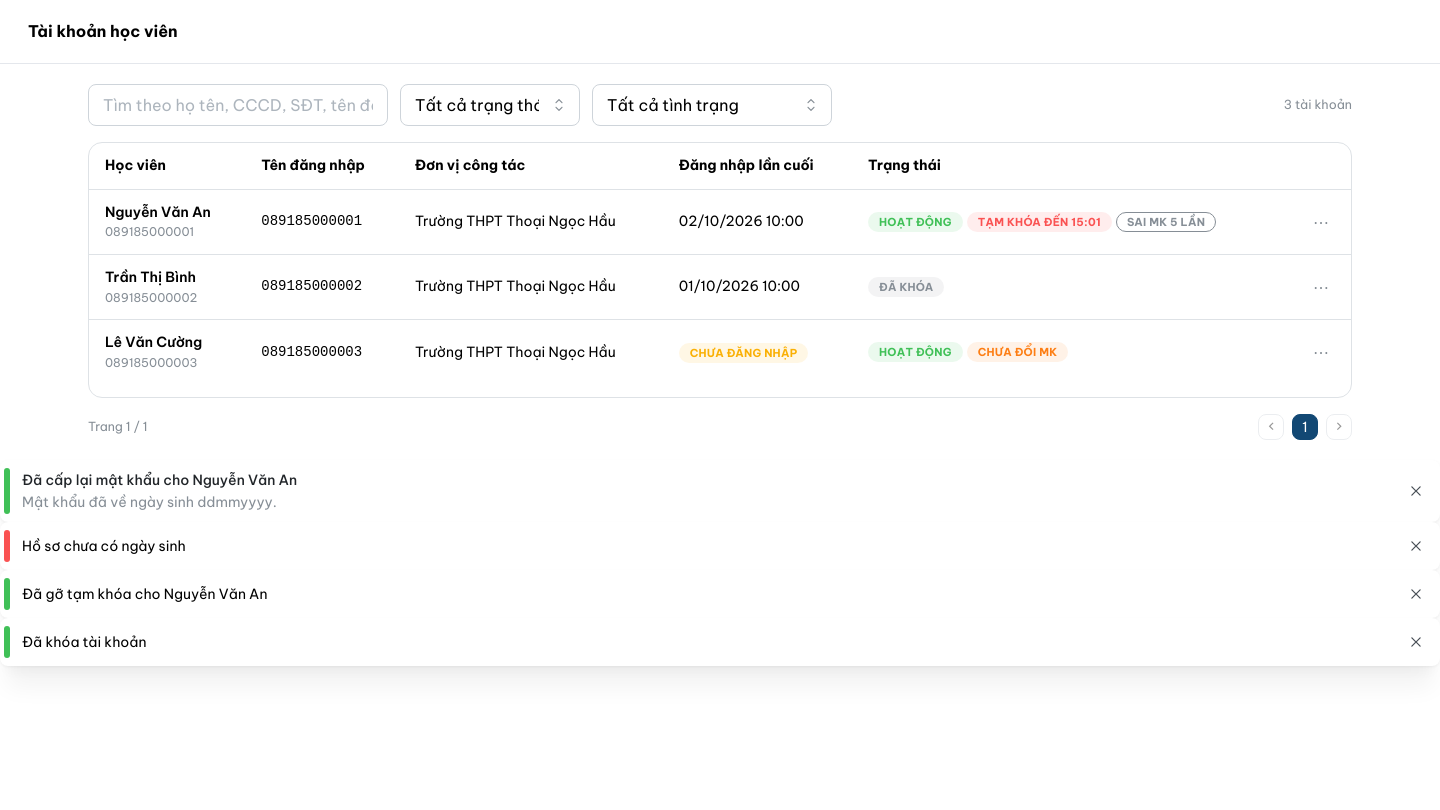
Admin — Tài khoản học viên › mở khóa tài khoản đã khóa hỏi xác nhận rồi PATCH trang_thai=active
Click the button "⋯" in the row of "Trần Thị Bình".
click(1321, 287)  # box [1307,273,1335,301]
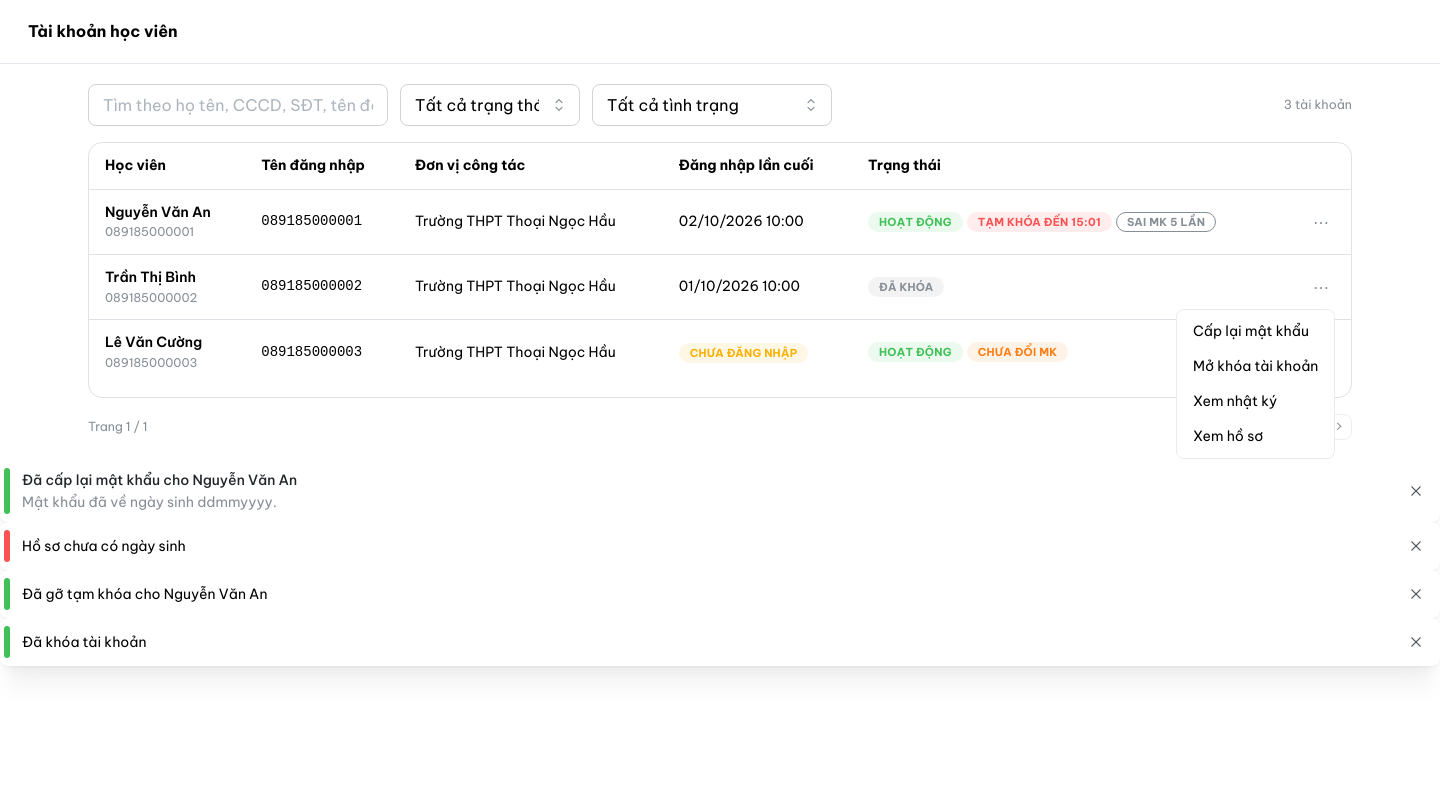
Click the menu item "Mở khóa tài khoản".
click(1255, 367)  # box [1181,349,1330,384]
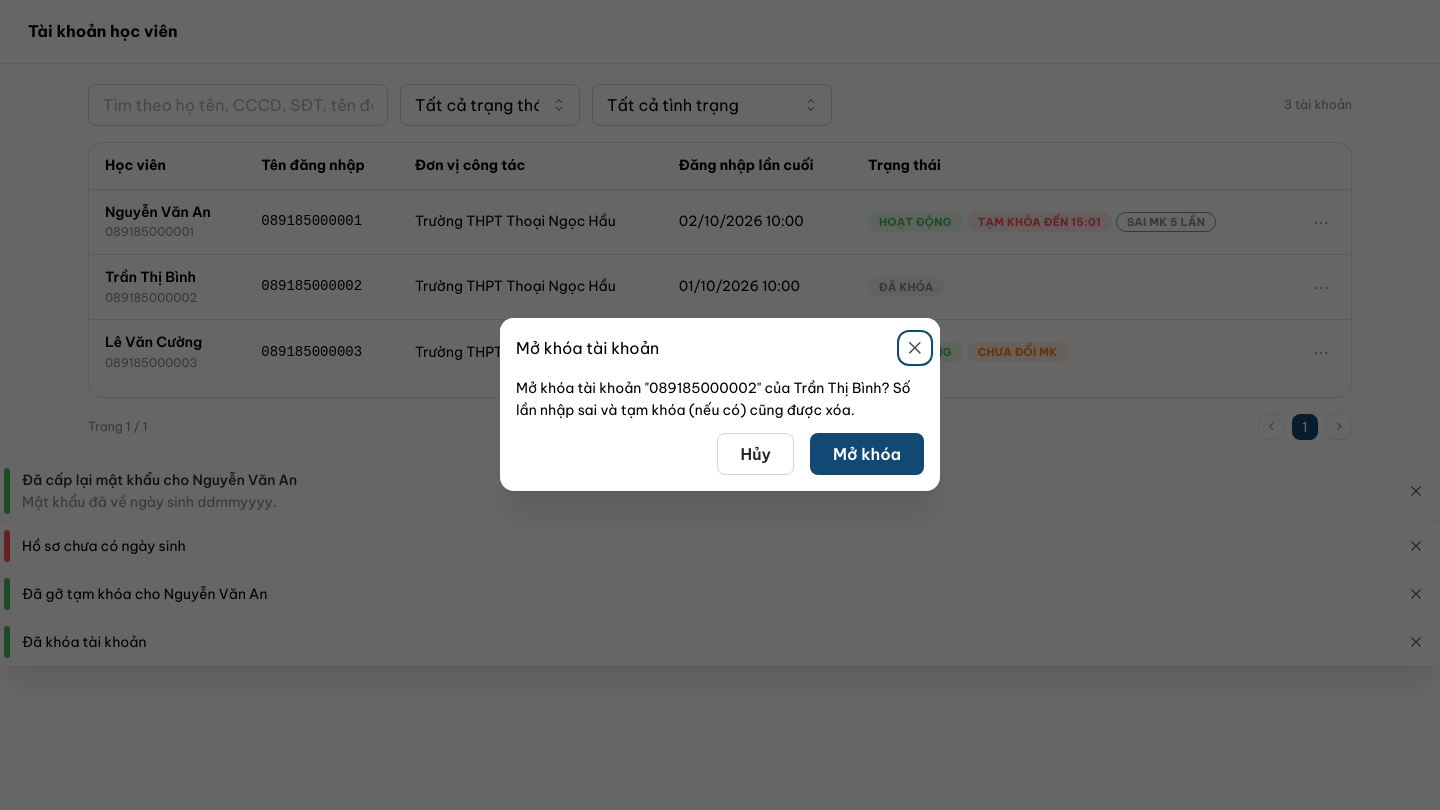
Click the button "Mở khóa".
click(867, 455)  # box [810,434,924,476]
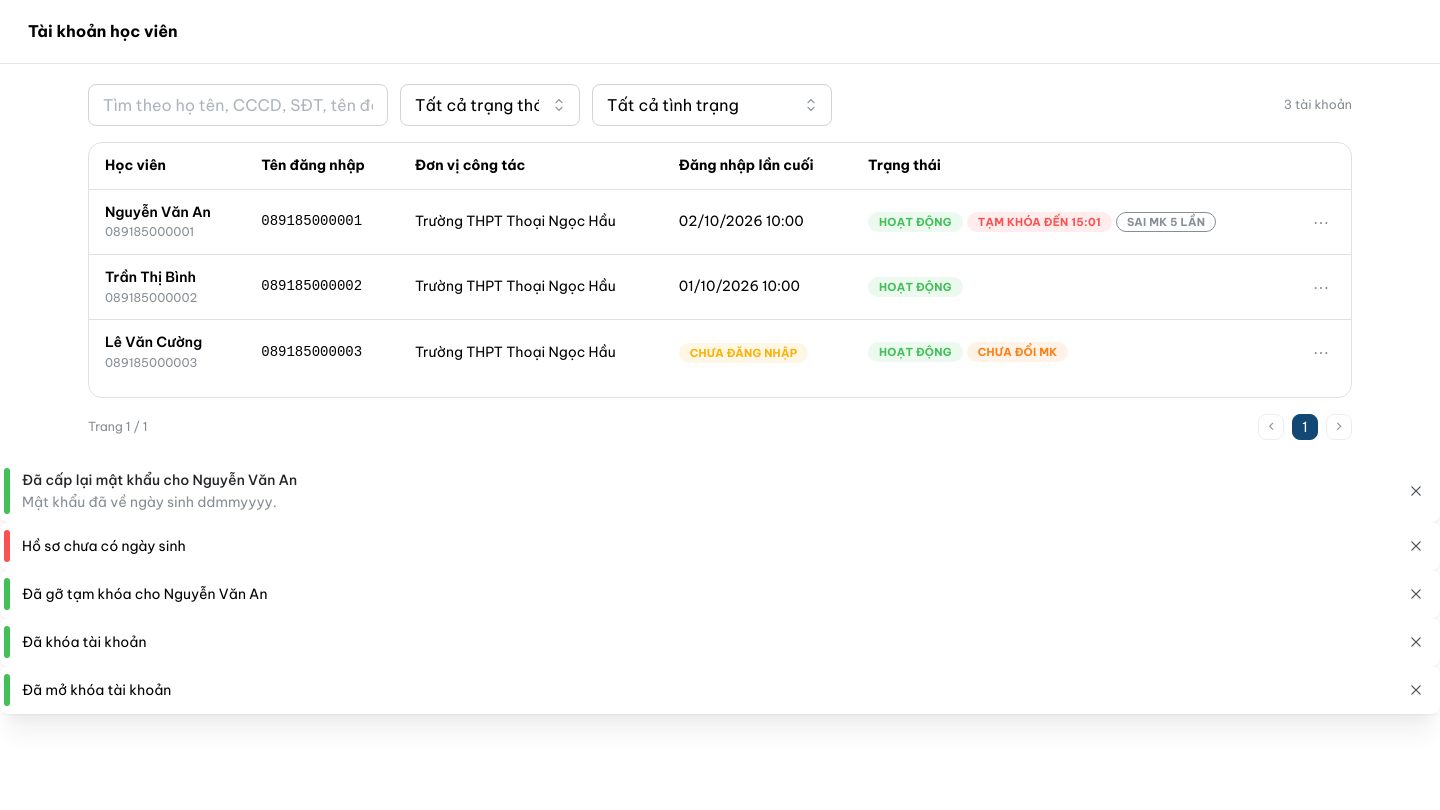
expect the text "Đã mở khóa tài khoản" is shown: met, box [22,681,171,699]
